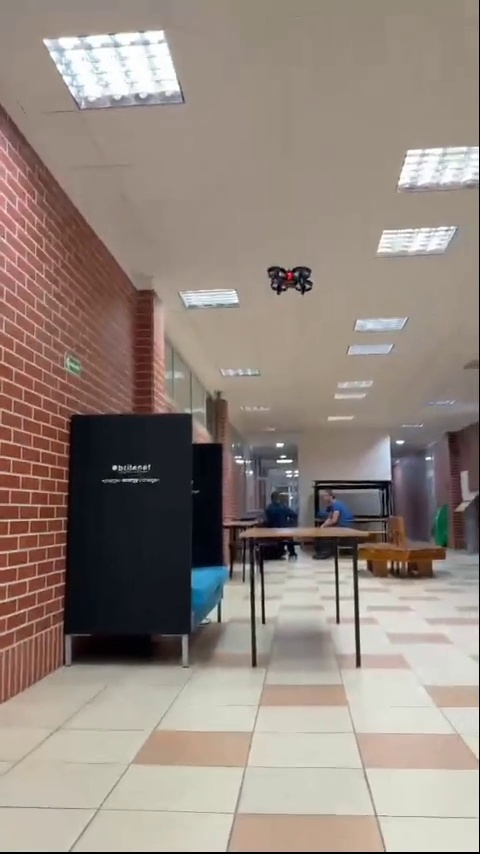drone: (264, 266, 315, 298)
no vest: (312, 485, 349, 529), (262, 487, 298, 527)
